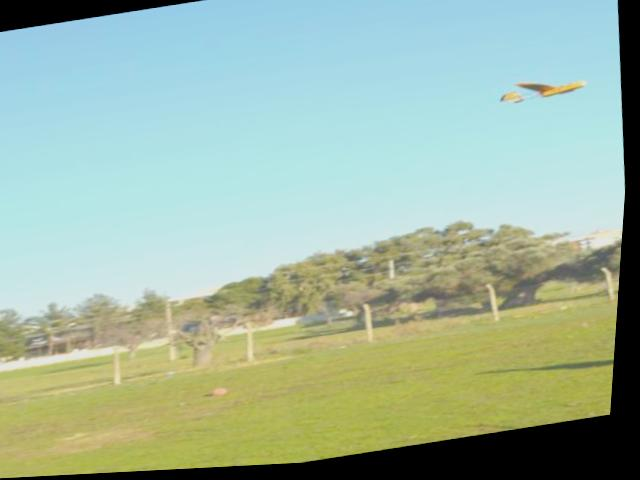iha: (497, 73, 599, 116)
